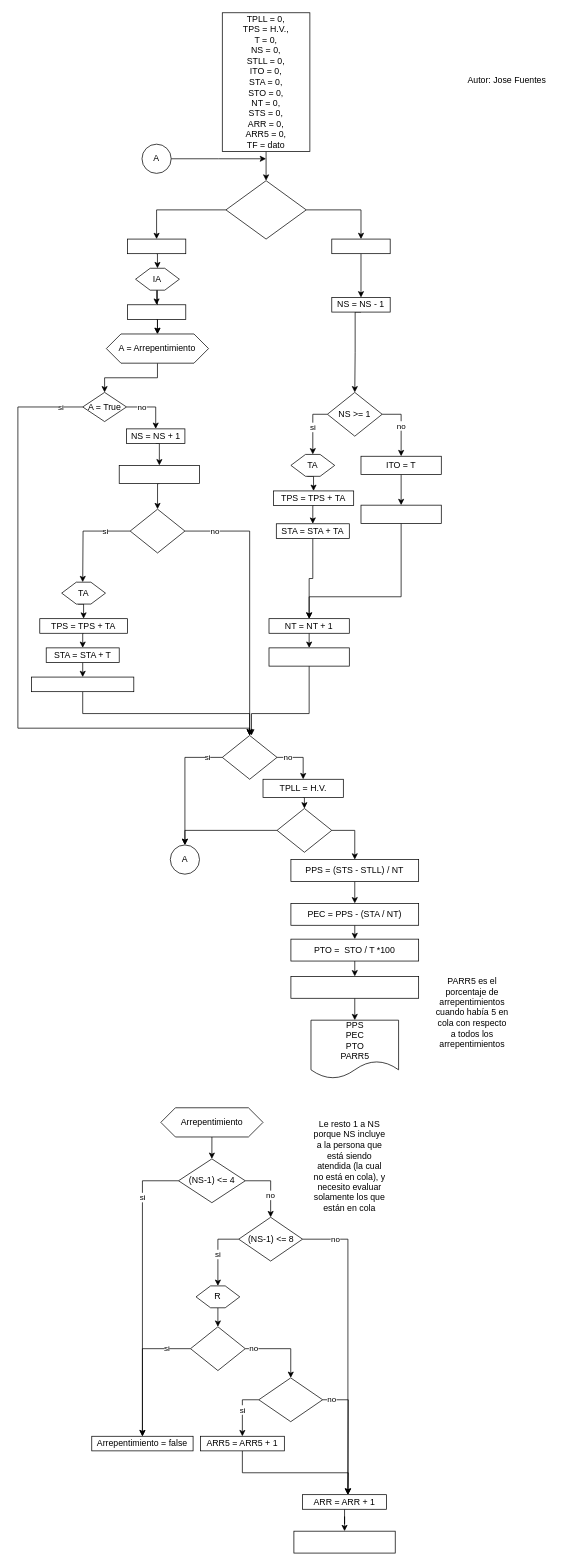
Some shapes in this 564 by 1566 pixel diagram are drawn without their labels. Each missing label, with the box of its shape:
(NS-1) = 5: (258, 1377, 323, 1422)
Arrepentimiento = true: (293, 1530, 395, 1553)
NS = 1: (129, 508, 185, 553)
NS > 0: (276, 808, 332, 852)
PARR5 = ARR5 / ARR * 100: (290, 976, 419, 998)
R < 0.4: (190, 1326, 245, 1371)
STLL = STLL + T: (118, 465, 200, 484)
STO = STO + (T - ITO): (31, 676, 134, 692)
STS = STS + T: (268, 647, 349, 666)
T < TF: (222, 735, 277, 779)
T = TPLL: (127, 238, 186, 254)
T = TPS: (331, 238, 390, 254)
TPLL < TPS: (225, 180, 306, 239)
TPLL = T + IA: (127, 304, 186, 319)
TPS = H.V.: (360, 504, 441, 523)
